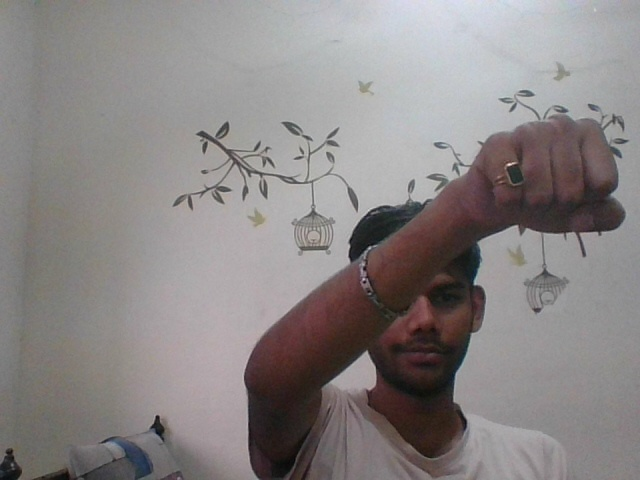Thank You: (429, 103, 628, 257)
